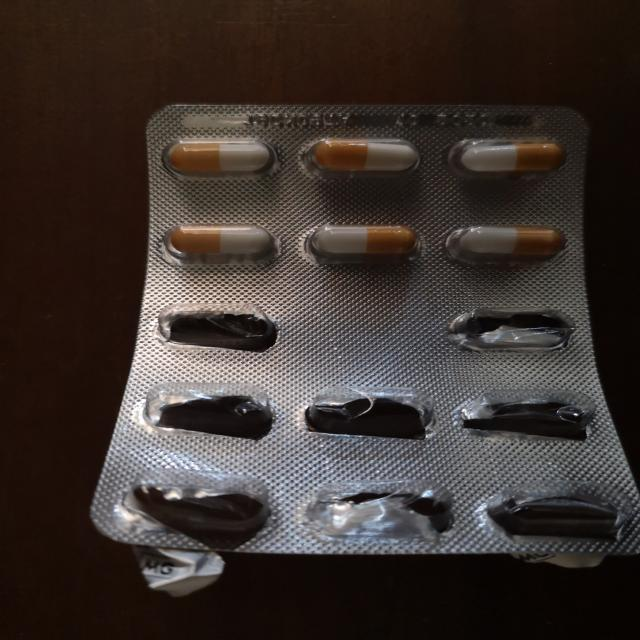Empty: (114, 468, 282, 547), (297, 476, 458, 550), (133, 376, 284, 452), (466, 483, 640, 548), (447, 387, 613, 450), (290, 386, 436, 453), (434, 300, 585, 361), (150, 298, 292, 358)
Pill: (432, 215, 574, 268), (155, 213, 288, 268), (295, 129, 432, 181), (155, 129, 284, 181), (294, 213, 422, 263), (448, 132, 578, 179)
